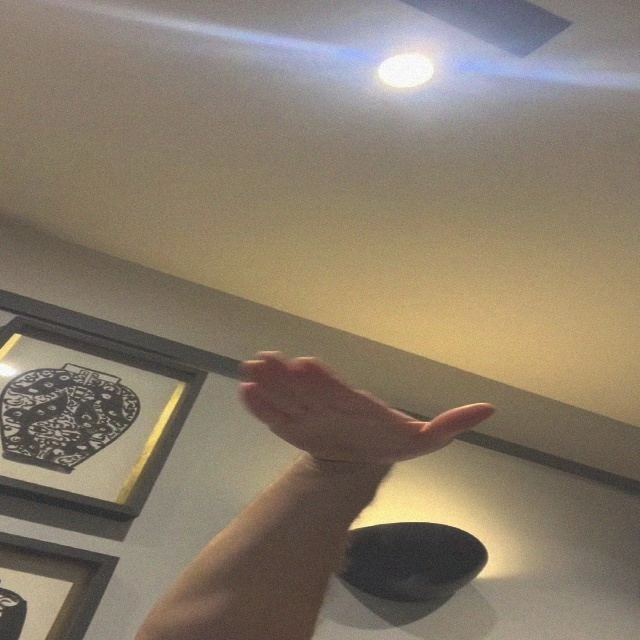Paper: (229, 348, 498, 464)
